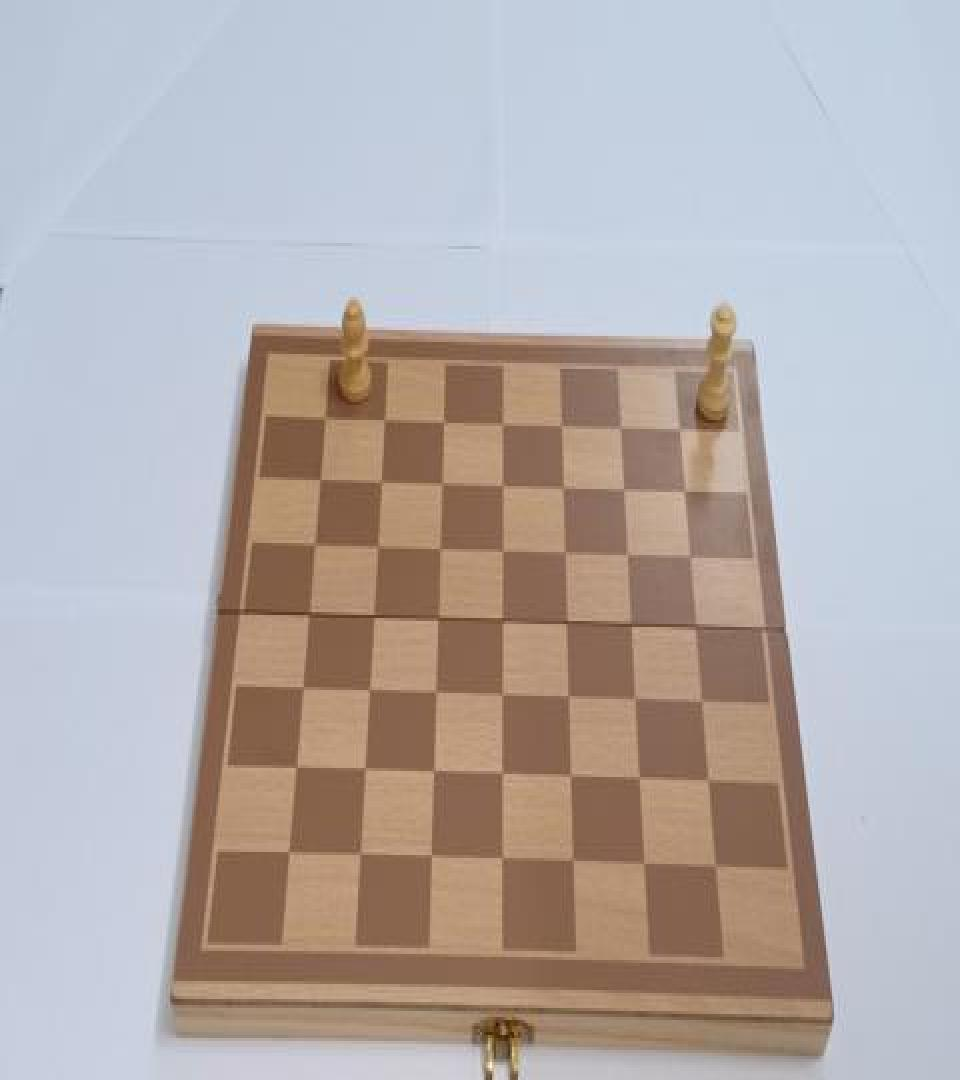xcorner: (375, 406, 393, 434), (493, 472, 511, 500), (615, 478, 633, 506), (670, 418, 688, 446), (315, 404, 333, 431), (310, 465, 328, 492), (305, 531, 323, 558), (299, 600, 317, 627), (293, 675, 311, 702), (287, 755, 305, 782), (280, 838, 298, 865), (371, 468, 389, 495), (368, 534, 386, 561), (364, 603, 382, 630), (360, 678, 378, 705), (432, 471, 450, 498), (429, 606, 447, 633), (425, 759, 443, 786), (423, 844, 441, 871), (493, 411, 511, 438), (494, 538, 512, 565), (494, 609, 512, 636), (494, 683, 512, 710), (495, 762, 513, 789), (552, 414, 570, 441), (559, 610, 577, 637), (564, 765, 582, 792), (567, 851, 585, 878), (611, 415, 629, 442), (619, 543, 637, 570), (628, 689, 646, 716), (633, 768, 651, 795), (676, 480, 694, 507), (682, 546, 700, 573), (688, 617, 706, 644), (695, 690, 713, 717), (703, 771, 721, 798), (710, 855, 728, 882), (356, 758, 374, 784), (351, 842, 369, 868), (434, 410, 452, 436), (431, 536, 449, 562), (427, 680, 445, 706), (495, 848, 513, 874), (554, 476, 572, 502), (556, 542, 574, 568), (561, 686, 579, 712), (624, 614, 642, 640), (639, 854, 657, 880)
